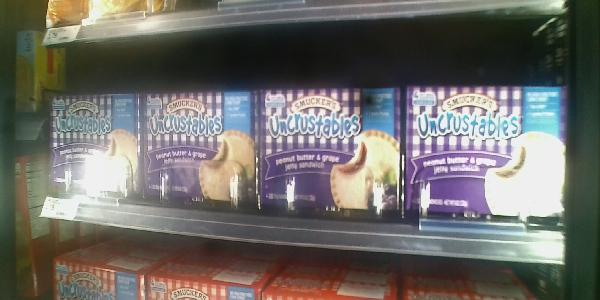icecream: (403, 82, 568, 231), (257, 86, 405, 222), (139, 87, 259, 216), (48, 90, 143, 208)
